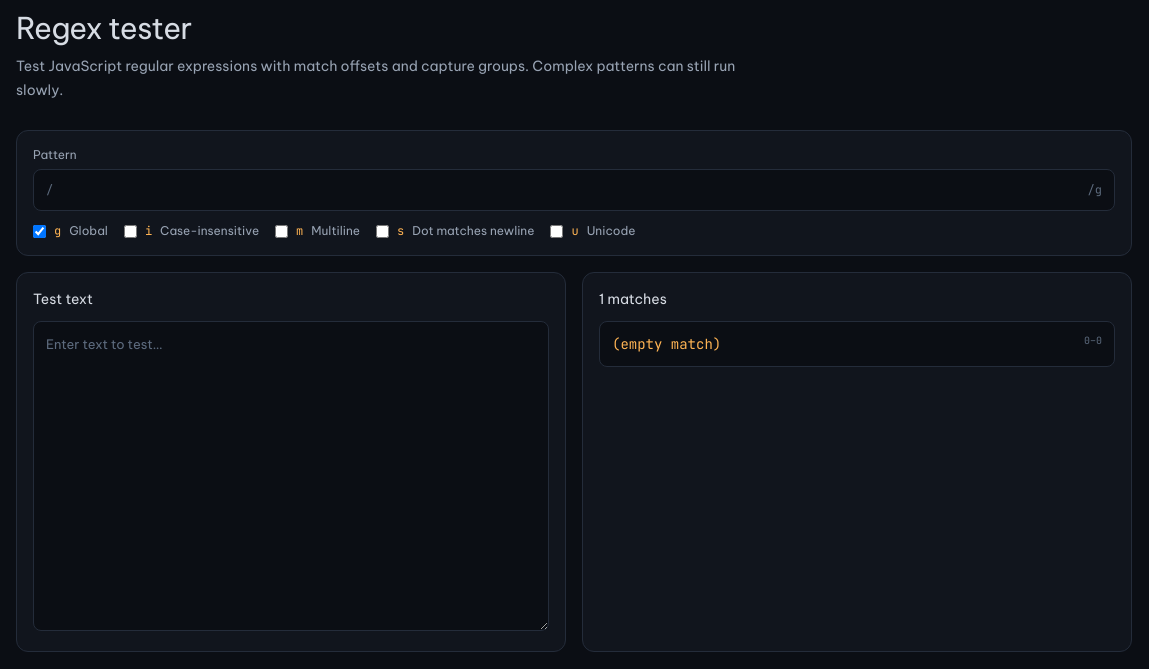
Scenario: Regex Tester tool › lists global matches, offsets, and capture groups
Type "a(.)" into the field labelled "Pattern" at (570, 190), box [53,170,1088,210]
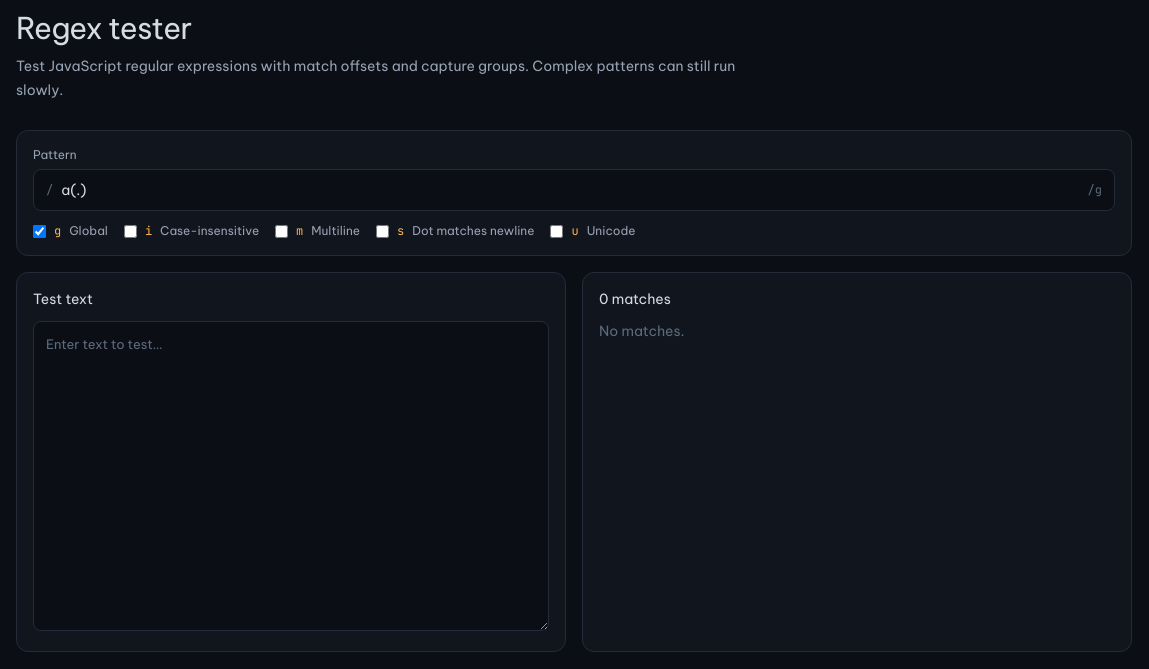
Type "ab ac" into the text box named "Test text" at (291, 476), box [33,321,549,631]
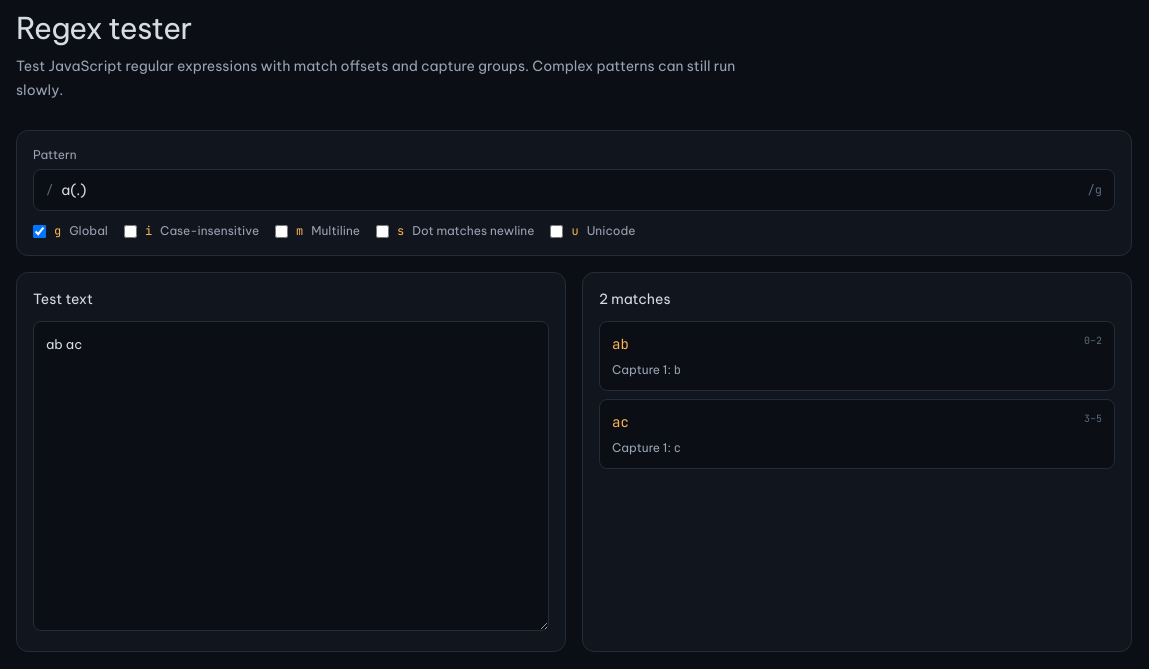
expect the element "matches" shows "2 matches": met, box [599,290,670,308]
expect the element "matches" shows "ab": met, box [612,335,629,353]
expect the element "matches" shows "ac": met, box [612,413,629,431]
